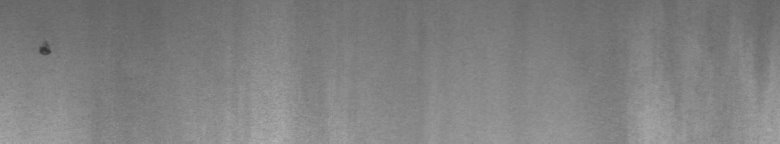fi: (36, 36, 55, 64)
